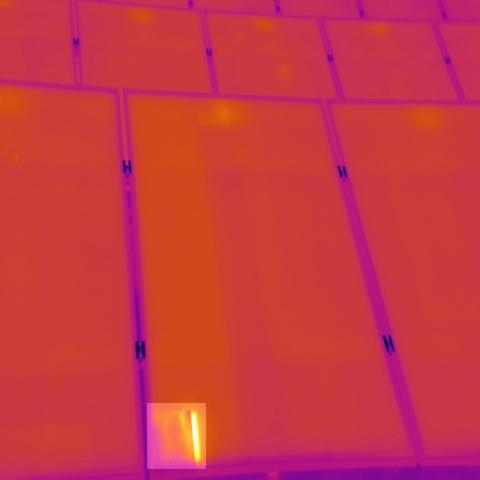fault: (147, 403, 206, 469)
